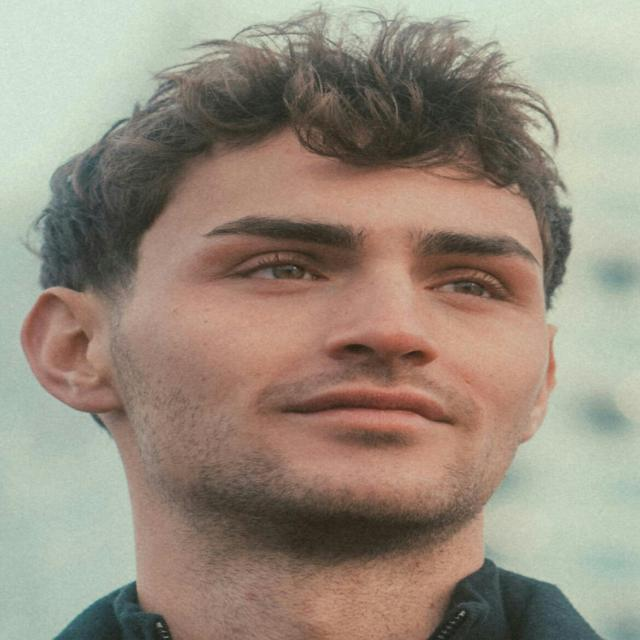front: (175, 150, 556, 499)
